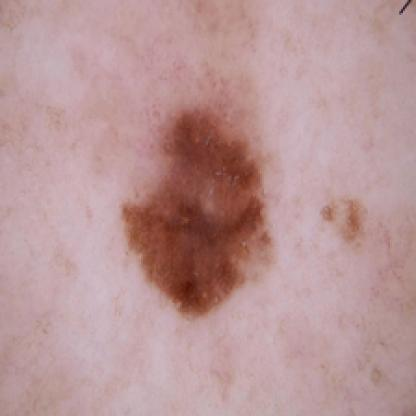Skin_Cancer-Malignant: (120, 105, 279, 324)
